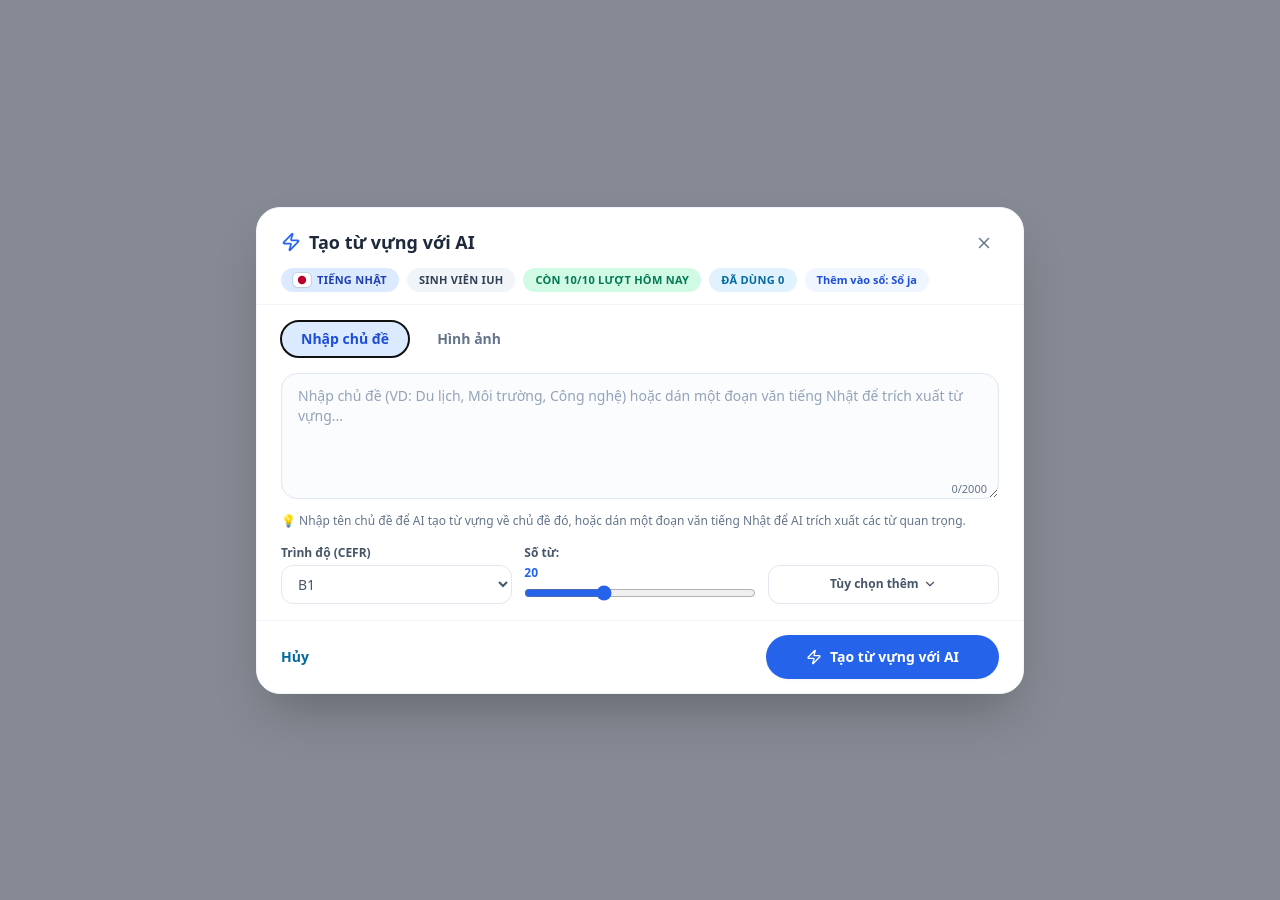
Test: GenerateVocabModal — nhiều ngôn ngữ › sổ đích quyết định ngôn ngữ, bất kể prop lang
Expected: the text "Còn 10/10 lượt hôm nay" is shown, [523,268,701,292]
Expected: the element with test id "generate-language" reads "Tiếng Nhật", [317,272,387,286]
Replace the text in the text box with placeholder "Nhập chủ đề" with "Du lịch" at (640,436), box [281,372,999,498]
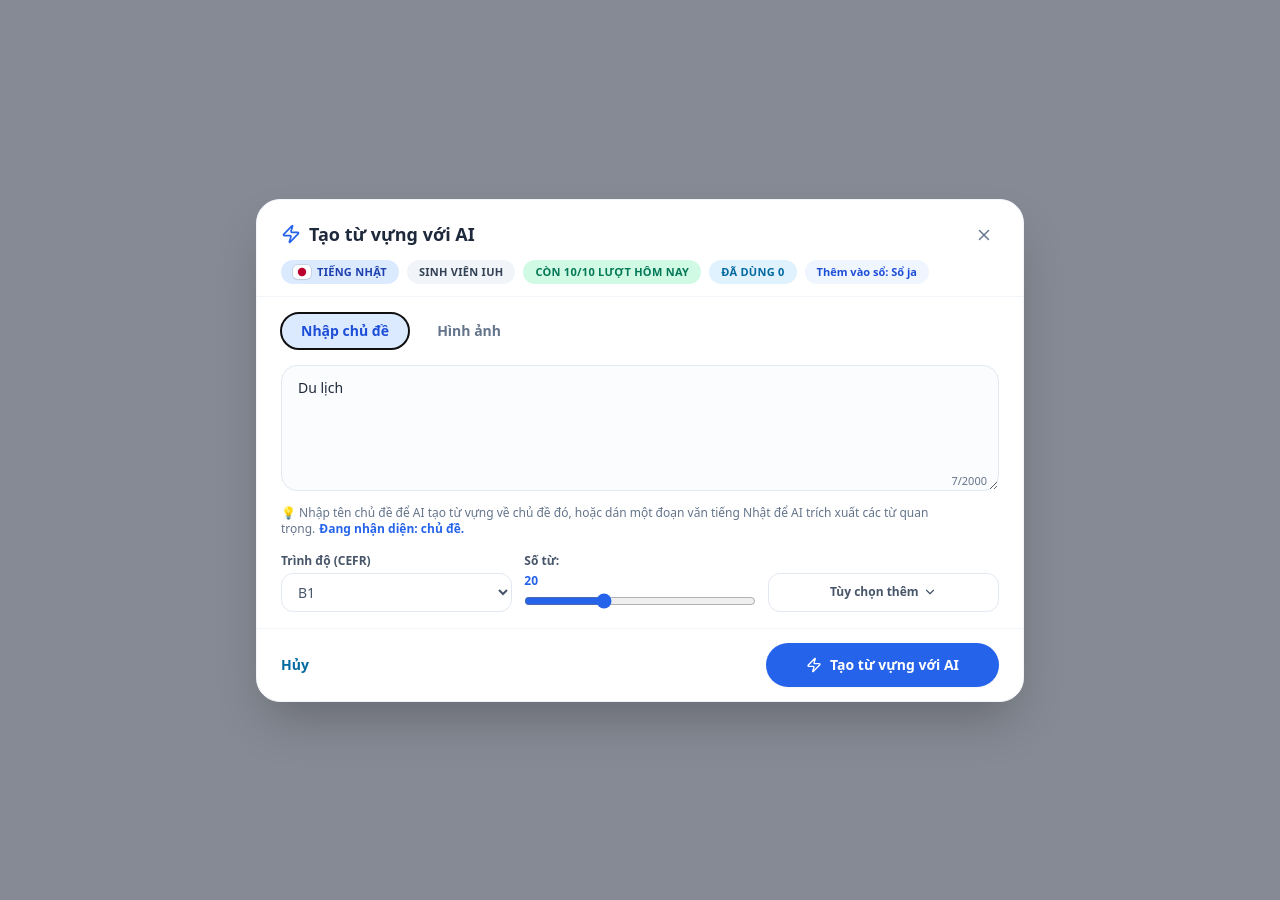
Click the button "Tạo từ vựng với AI" at (883,664), box [766,642,999,686]
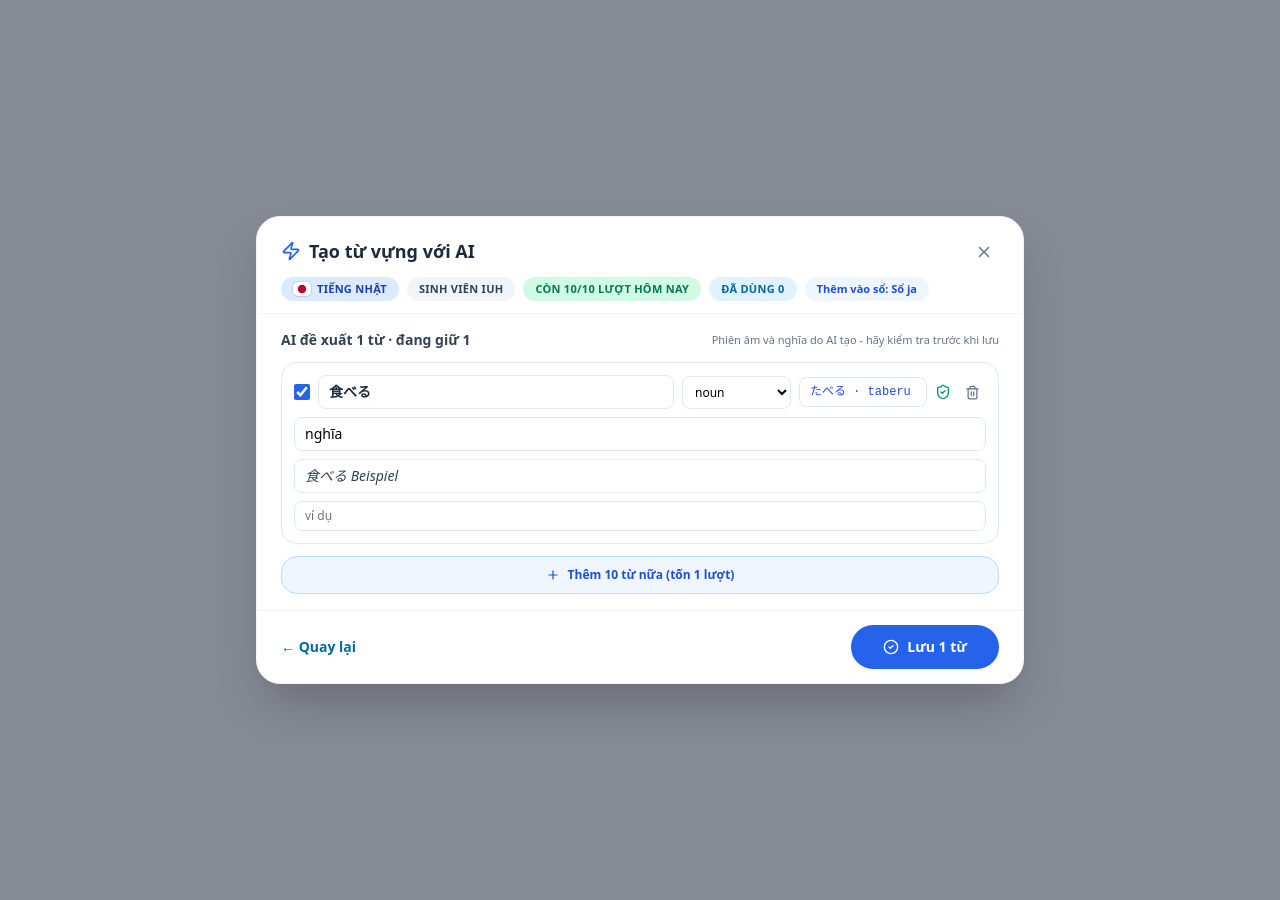
Now the field showing "食べる" is shown, box [318,375,674,409]
